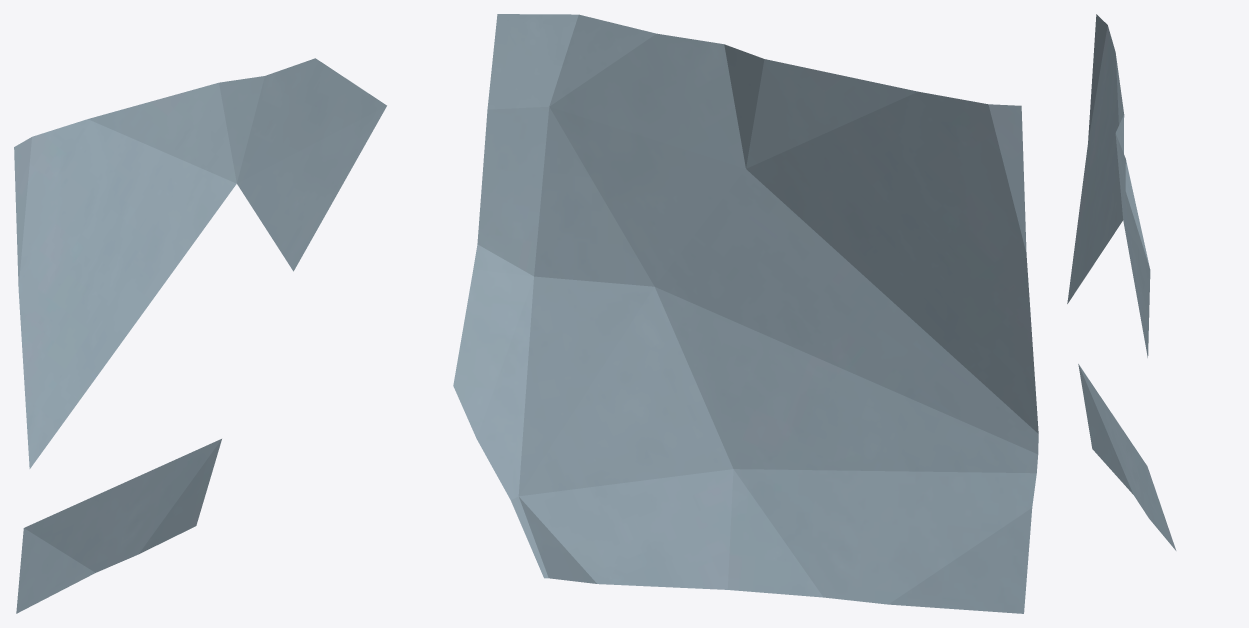
3 views of the same model, side by side, from view 1: azimuth 30°, elevation 25°; view 2: azimuth 150°, elevation 25°; view 3: azimuth 270°, elevation 25° (orthographic). The views are drawn at different scales.
Bounding box in the file's own units: 0.8373 × 0.8373 × 0.2923.
Materials: 3 (3 with a texture image).
